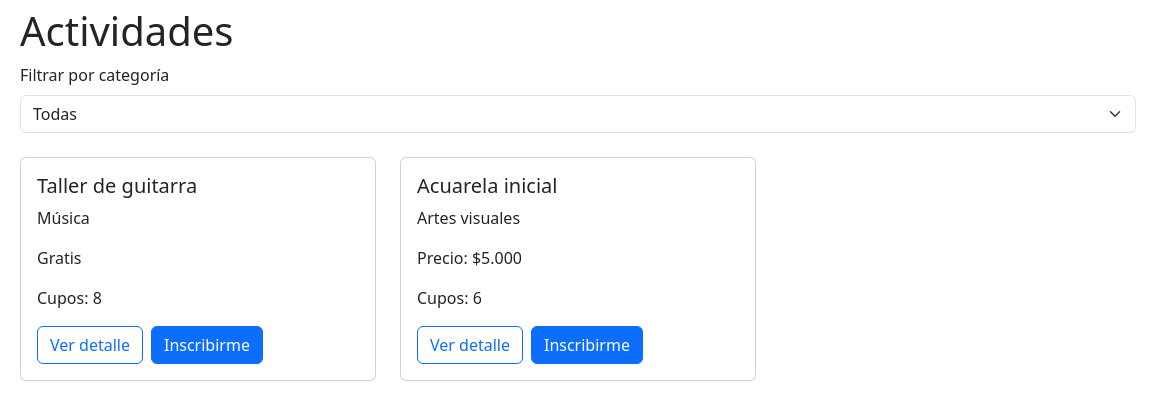
Test: Actividades › actualiza los resultados cuando cambia el filtro de categoría
The image size is (1157, 398).
Expected: the heading "Taller de guitarra" is shown, left=37, top=172, right=197, bottom=199
Expected: the heading "Acuarela inicial" is shown, left=417, top=172, right=558, bottom=199
Select "Artes visuales" in the dropdown labelled "Filtrar por categoría" at point(578, 114), box left=20, top=95, right=1136, bottom=133
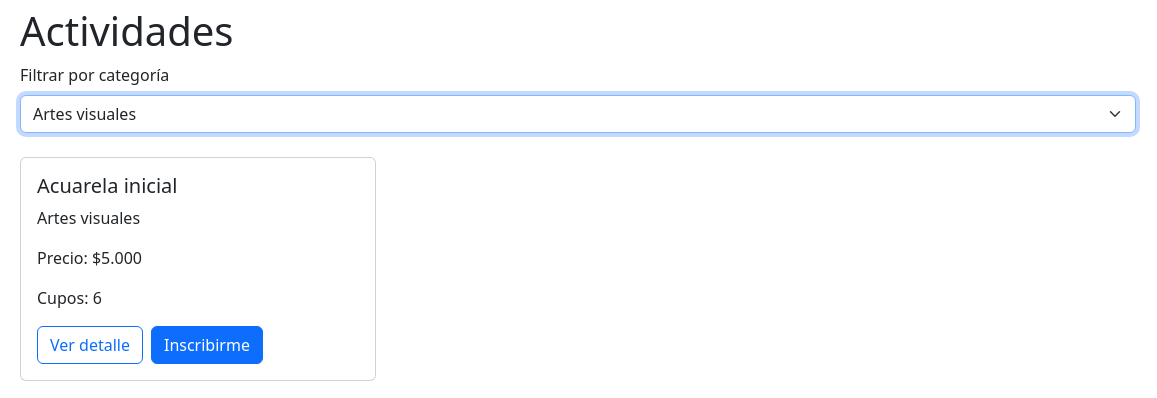
Expected: the heading "Acuarela inicial" is shown, left=37, top=172, right=178, bottom=199
Expected: the heading "Taller de guitarra" is gone
